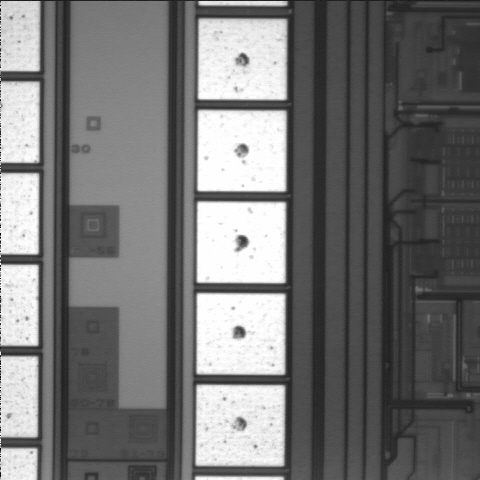pad: (197, 110, 286, 192), (197, 293, 285, 375), (198, 19, 287, 100), (197, 202, 286, 283), (196, 385, 285, 466)
